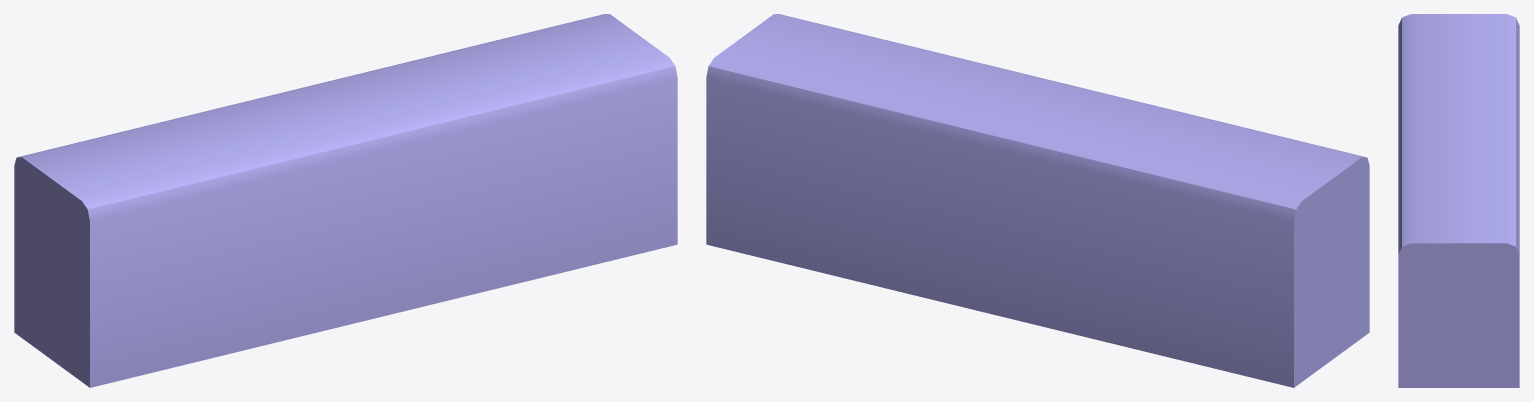
The model's file is Board_FrameEdge.fbx.
The picture shows the model from 3 angles, left to right: view 1: azimuth 30°, elevation 25°; view 2: azimuth 150°, elevation 25°; view 3: azimuth 270°, elevation 25°; orthographic projection. The views are drawn at different scales.
Visible parts, largest first — view 1: Board_FrameEdge; view 2: Board_FrameEdge; view 3: Board_FrameEdge.
Boxes of the visible parts, x1,y1,x2,y2 form: Board_FrameEdge: (14, 14, 677, 387); Board_FrameEdge: (706, 14, 1369, 387); Board_FrameEdge: (1398, 14, 1519, 387).
Size of the model in its own units: 0.85 by 0.25 by 0.19.
